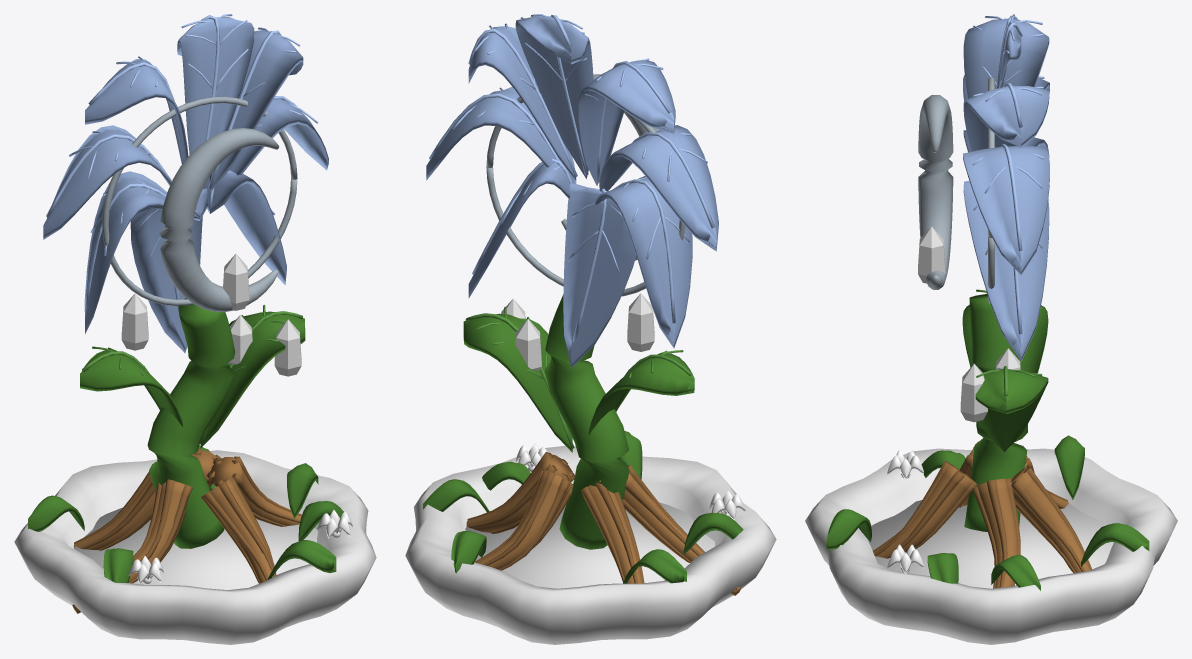
Rendered from moonflower-3.fbx.
3 views of the same model, side by side, from view 1: azimuth 30°, elevation 25°; view 2: azimuth 150°, elevation 25°; view 3: azimuth 270°, elevation 25° (orthographic). The views are drawn at different scales.
Visible parts, largest first — view 1: Petals_Petal, CarvedBasin, Turret_PortalBamboo, moonflower-3_Bark, SilverCrescent, WaterSurface, moonflower-3_PortalBamboo, Turret_Glow, LunarOrbit, moonflower-3_Petal; view 2: Petals_Petal, CarvedBasin, Turret_PortalBamboo, moonflower-3_Bark, WaterSurface, moonflower-3_PortalBamboo, Turret_Glow, LunarOrbit, moonflower-3_Petal; view 3: CarvedBasin, Petals_Petal, moonflower-3_Bark, Turret_PortalBamboo, WaterSurface, moonflower-3_PortalBamboo, SilverCrescent, Turret_Glow, moonflower-3_Petal, LunarOrbit.
Boxes of the visible parts, x1,y1,x2,y2 form: Petals_Petal: [43, 14, 328, 353]; CarvedBasin: [14, 450, 376, 644]; Turret_PortalBamboo: [80, 298, 305, 548]; moonflower-3_Bark: [72, 448, 301, 613]; SilverCrescent: [159, 128, 279, 312]; WaterSurface: [74, 507, 317, 589]; moonflower-3_PortalBamboo: [28, 445, 343, 582]; Turret_Glow: [121, 254, 301, 376]; LunarOrbit: [102, 96, 297, 305]; moonflower-3_Petal: [128, 509, 352, 584]; Petals_Petal: [426, 14, 718, 367]; CarvedBasin: [405, 445, 776, 644]; Turret_PortalBamboo: [463, 295, 694, 549]; moonflower-3_Bark: [466, 452, 741, 595]; WaterSurface: [465, 502, 714, 588]; moonflower-3_PortalBamboo: [423, 431, 743, 583]; Turret_Glow: [501, 293, 654, 371]; LunarOrbit: [486, 88, 685, 296]; moonflower-3_Petal: [516, 443, 745, 519]; CarvedBasin: [805, 448, 1177, 644]; Petals_Petal: [963, 14, 1049, 361]; moonflower-3_Bark: [873, 441, 1092, 588]; Turret_PortalBamboo: [962, 289, 1048, 531]; WaterSurface: [865, 500, 1113, 588]; moonflower-3_PortalBamboo: [826, 435, 1149, 590]; SilverCrescent: [918, 95, 953, 289]; Turret_Glow: [918, 226, 1020, 422]; moonflower-3_Petal: [887, 450, 923, 573]; LunarOrbit: [988, 77, 994, 303].
Bounding box in the file's own units: 85.55 × 146 × 87.03.
